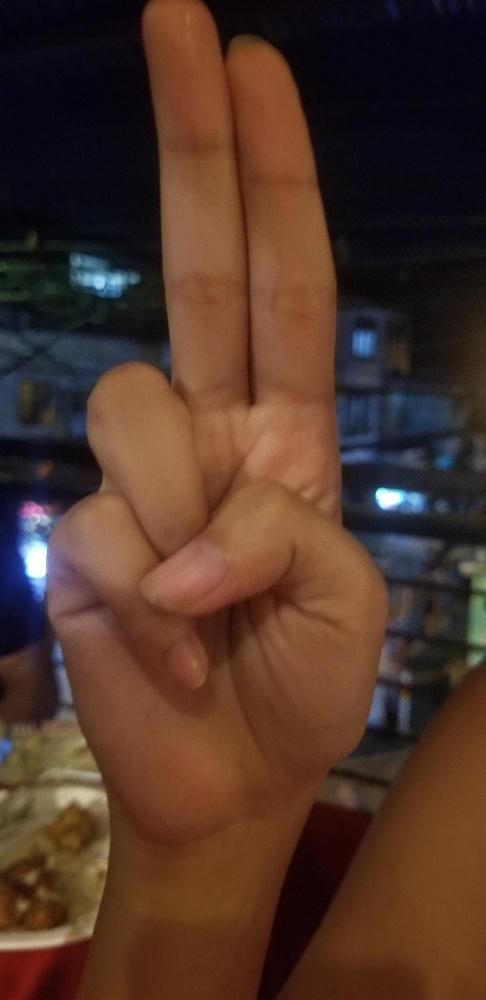u: (39, 0, 385, 835)
